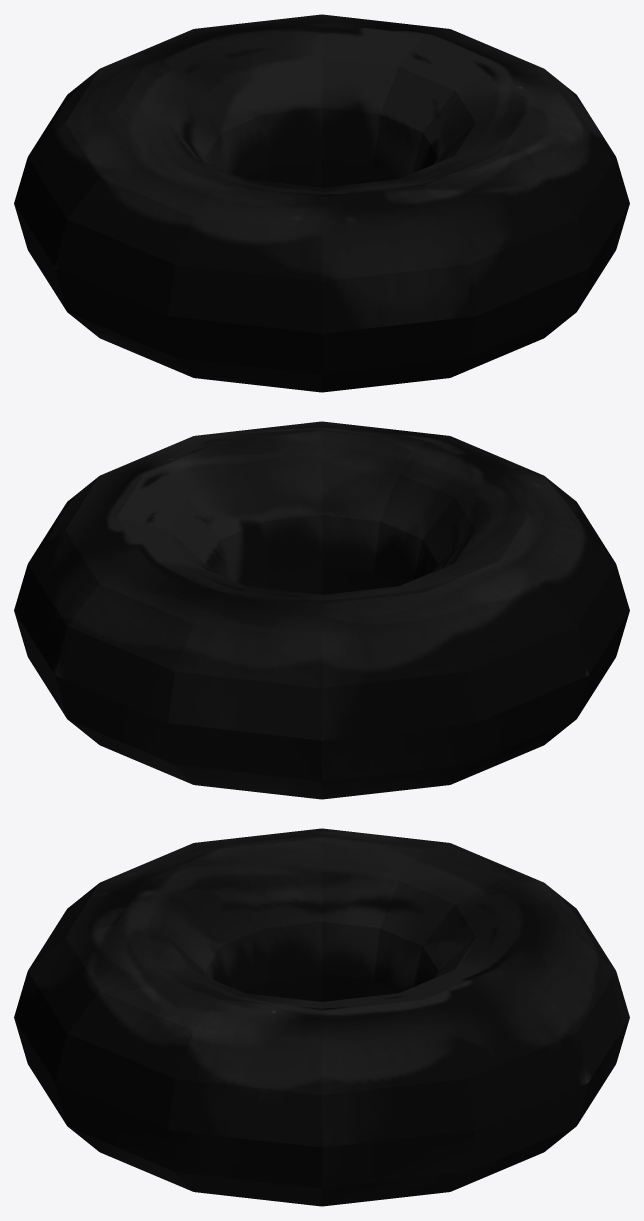
File: Donut_Burnt_Resize.fbx
3 views of the same model, one above another, from view 1: azimuth 30°, elevation 25°; view 2: azimuth 150°, elevation 25°; view 3: azimuth 270°, elevation 25° (orthographic).
Visible parts, largest first — view 1: Donut_Burnt; view 2: Donut_Burnt; view 3: Donut_Burnt.
Part boxes in pixels (<box>): Donut_Burnt: <box>14,14,629,392</box>; Donut_Burnt: <box>14,421,629,799</box>; Donut_Burnt: <box>14,828,629,1206</box>.
Size of the model in its own units: 86.32 by 28.77 by 86.32.
